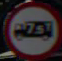Heavy Vehicles: (5, 5, 55, 48)
